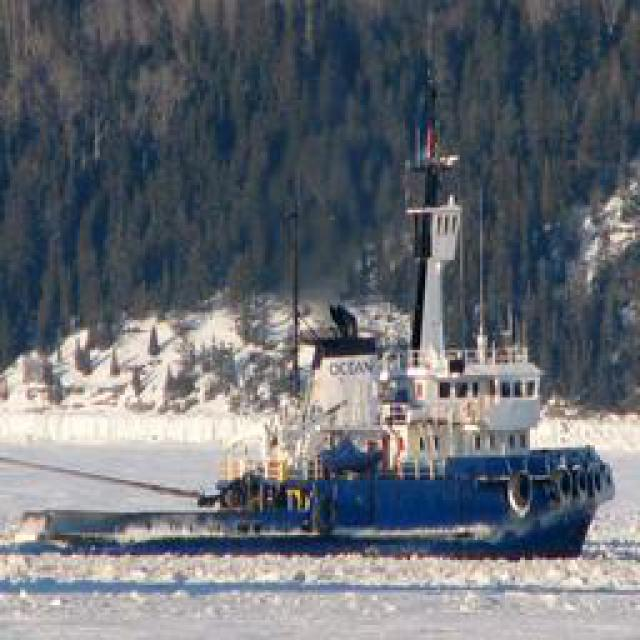Ship: (20, 327, 623, 566)
